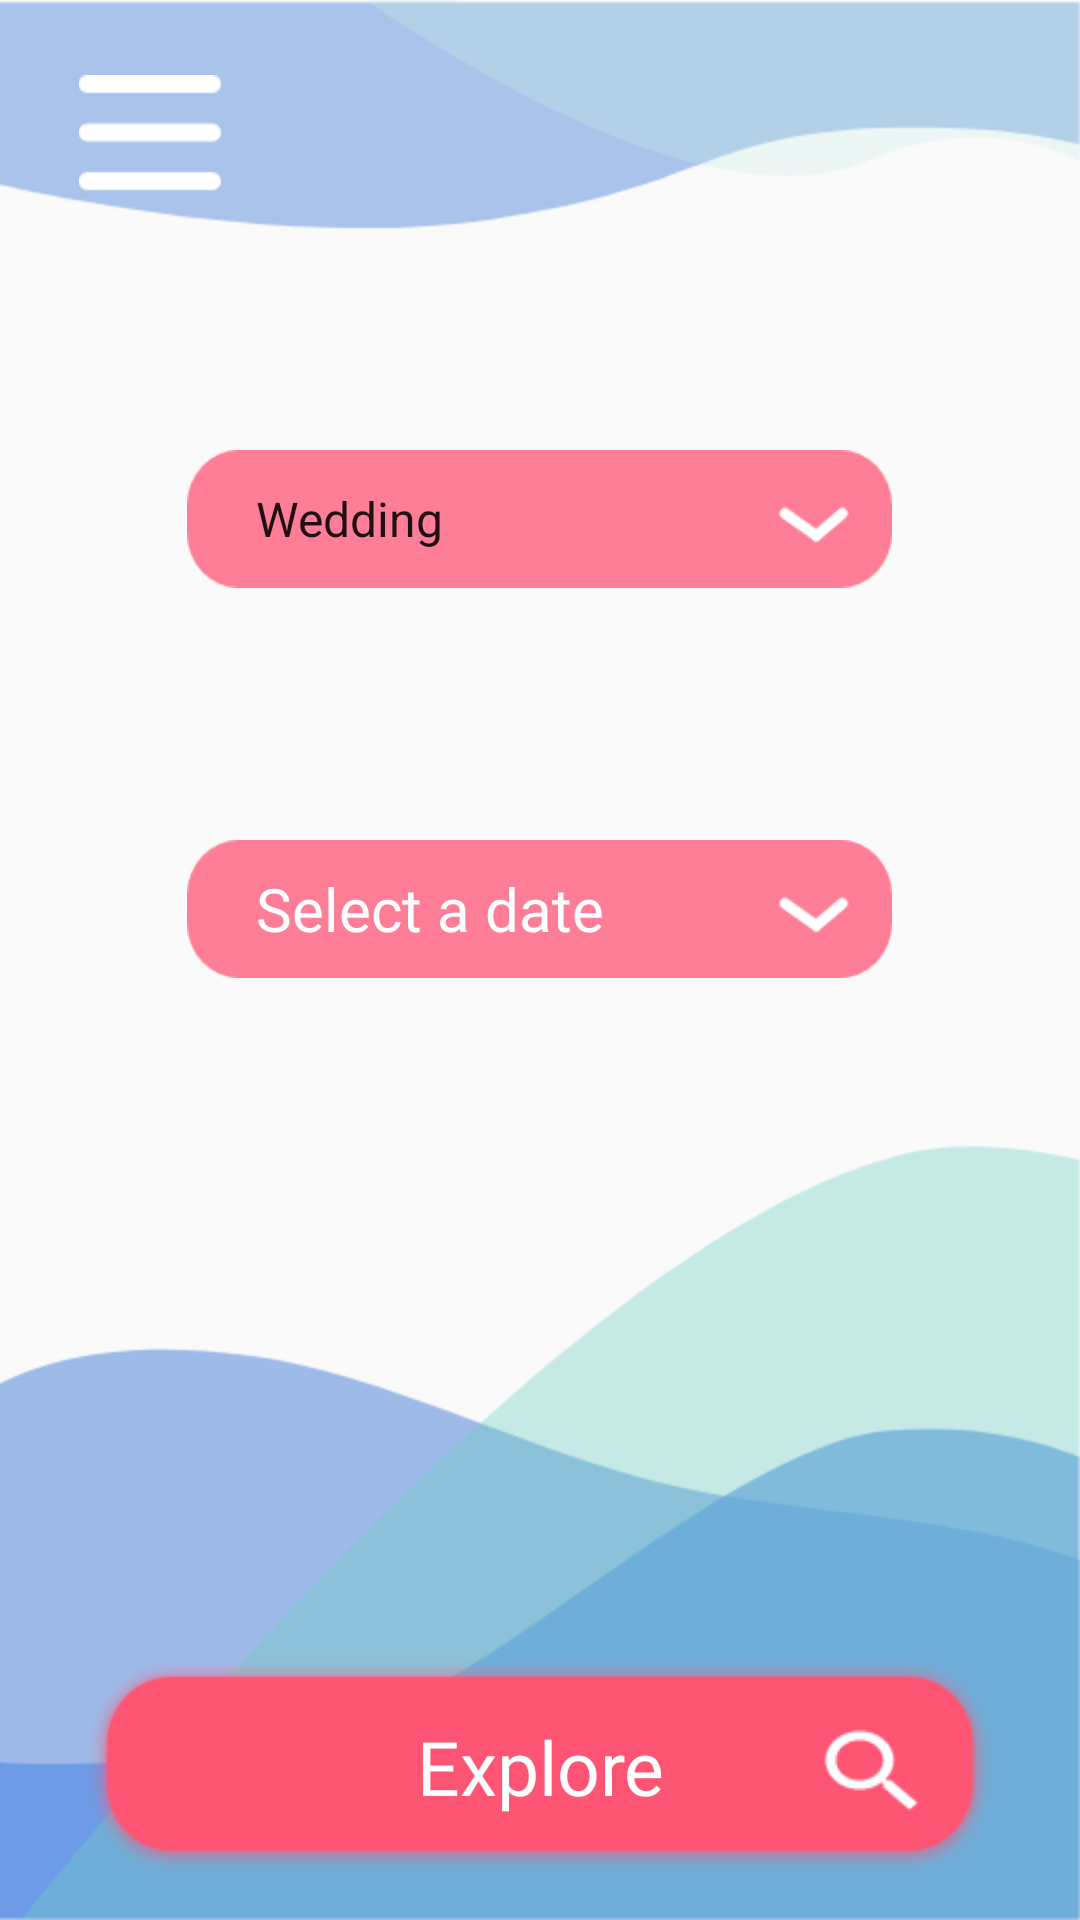

Locate icon controls on the screen. Image size 1080 × 1920, boxes as bbox=[x1, y1, x2, y2].
menu: bbox=[79, 75, 221, 190]
